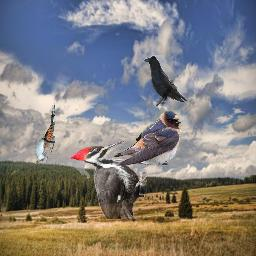Crow: (143, 56, 187, 107)
Cuckoo: (37, 103, 56, 164)
Swallow: (113, 111, 181, 166)
Woodpecker: (69, 139, 147, 219)
